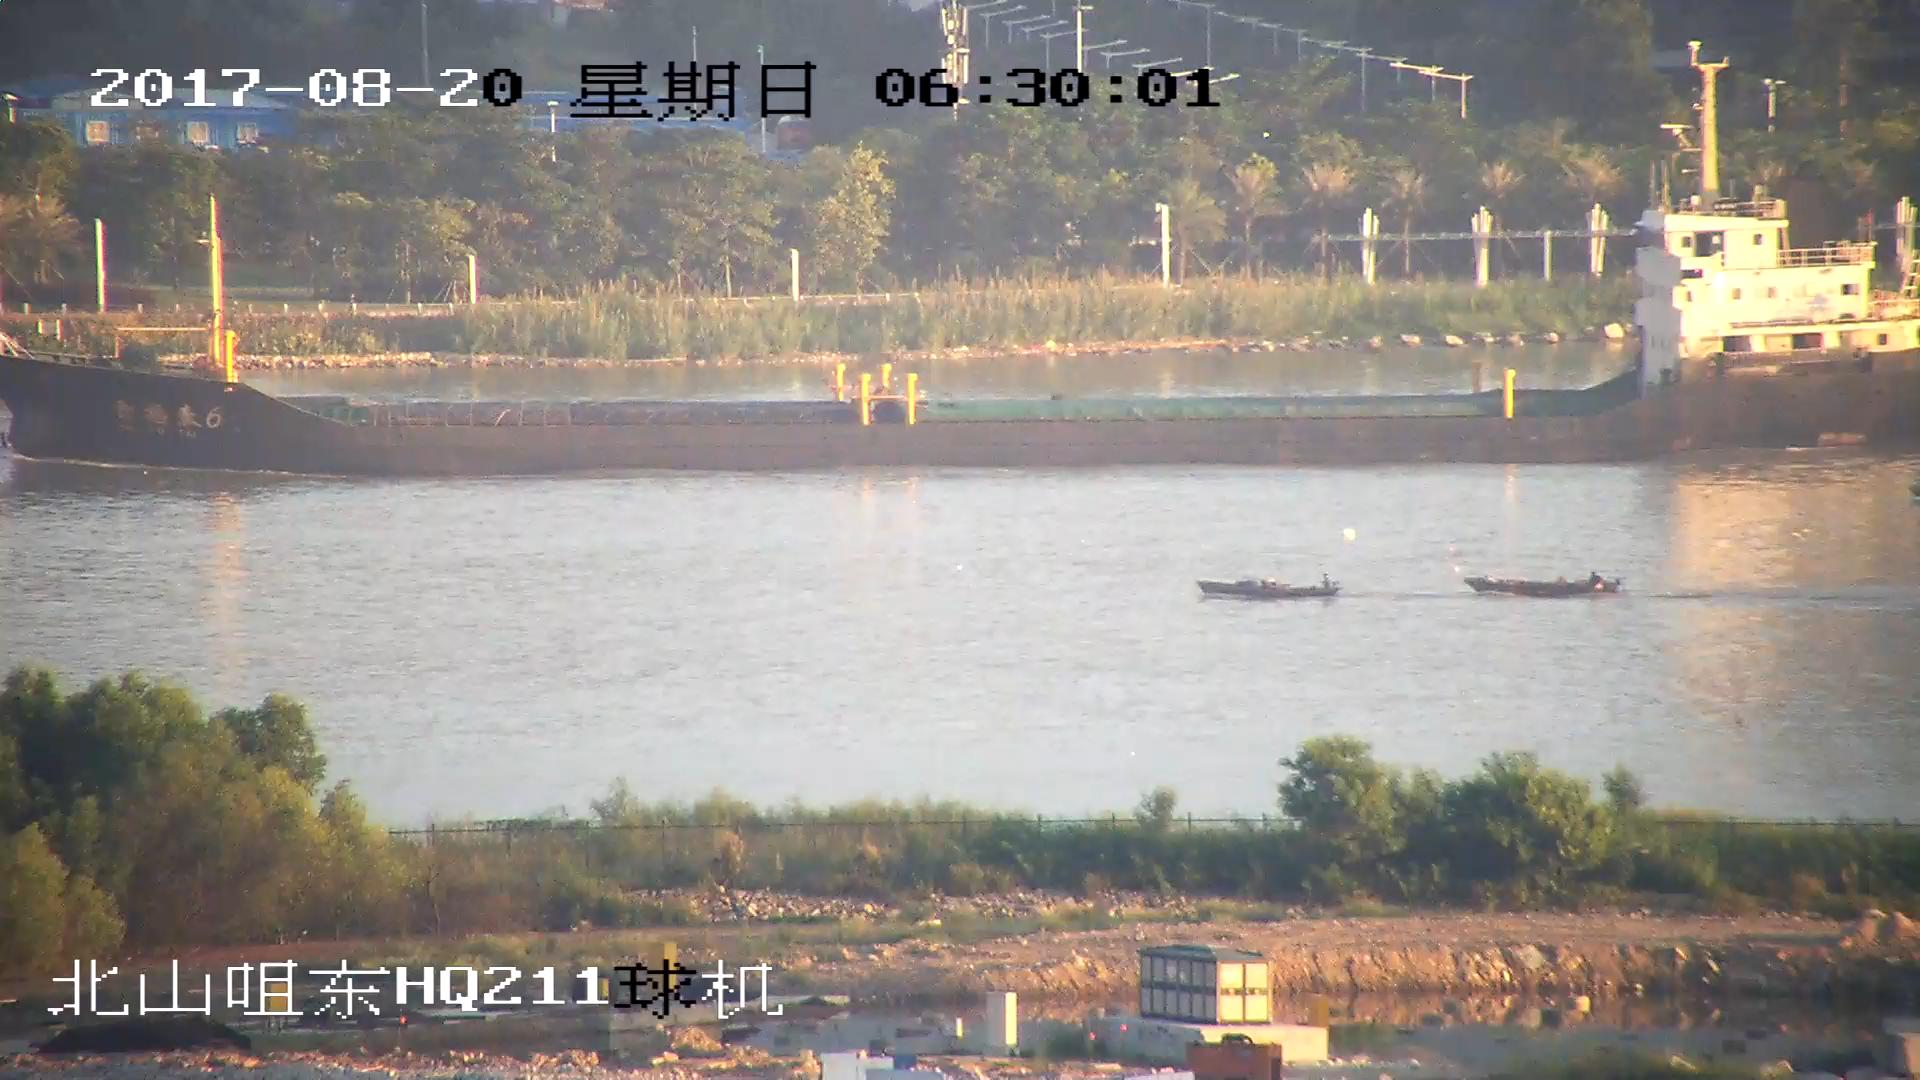fishing boat: (1463, 566, 1615, 600), (1207, 574, 1343, 602)
general cargo ship: (1, 110, 1920, 472)
